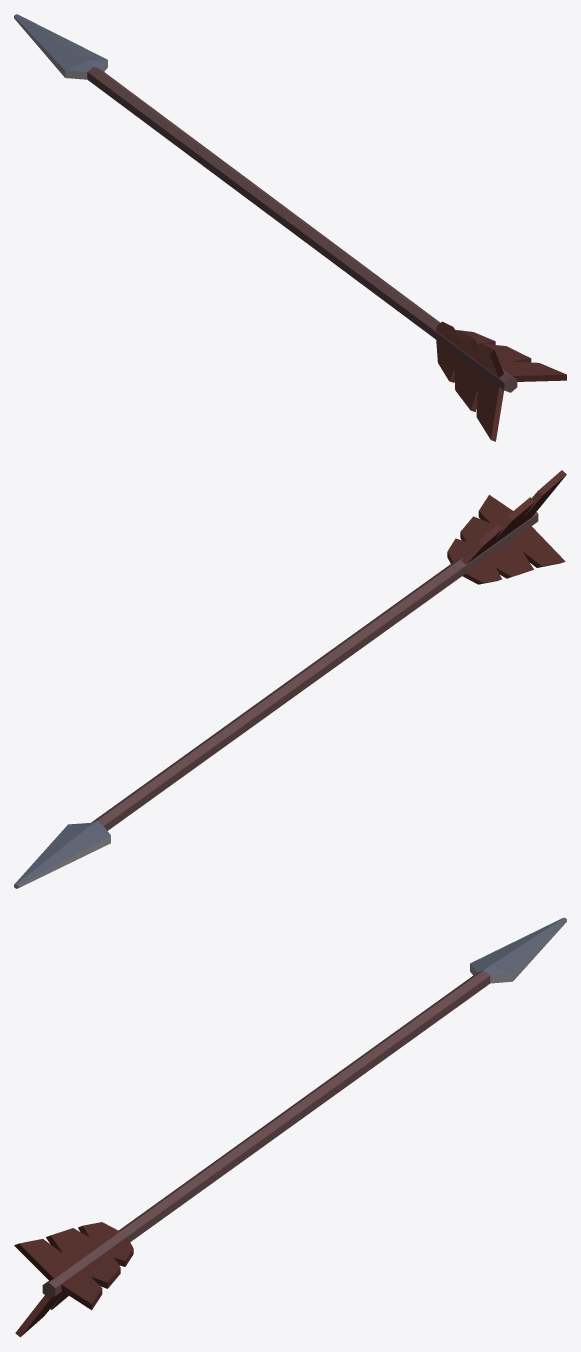
File: fleche.glb
The picture shows the model from 3 angles, top to bottom: view 1: azimuth 30°, elevation 25°; view 2: azimuth 150°, elevation 25°; view 3: azimuth 330°, elevation 25°; orthographic projection.
Parts seen in each view (by area): view 1: Arrow; view 2: Arrow; view 3: Arrow.
Boxes of the visible parts, <box> form: Arrow: <box>14,14,566,441</box>; Arrow: <box>14,470,566,888</box>; Arrow: <box>14,917,566,1337</box>.
Bounding box in the file's own units: 0.1275 × 0.146 × 1.46.
